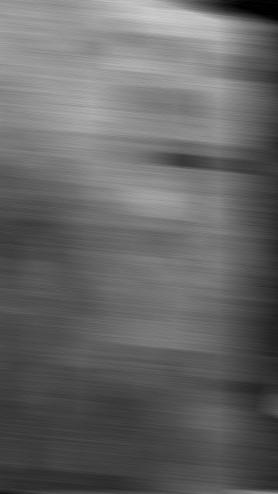Airbag: (0, 0, 278, 494), (254, 0, 278, 494), (254, 492, 278, 494)
